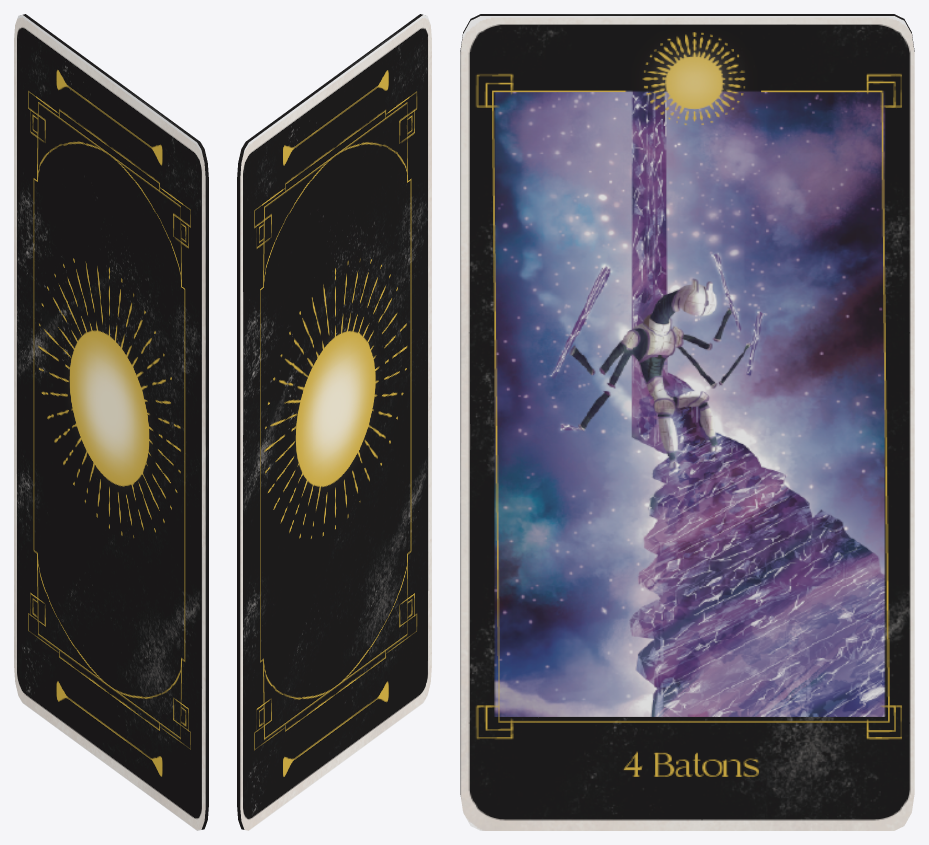
File: 4_baton.gltf
The picture shows the model from 3 angles, left to right: view 1: azimuth 30°, elevation 25°; view 2: azimuth 150°, elevation 25°; view 3: azimuth 270°, elevation 25°; orthographic projection. The views are drawn at different scales.
Visible parts, largest first — view 1: 2 Batons; view 2: 2 Batons; view 3: 2 Batons.
Part boxes in pixels (x1=…): 2 Batons: x1=14, y1=14, x2=208, y2=830; 2 Batons: x1=237, y1=14, x2=431, y2=830; 2 Batons: x1=460, y1=14, x2=914, y2=830.
Size of the model in its own units: 0.0191 by 3.96 by 2.
1 material, 1 textured.
